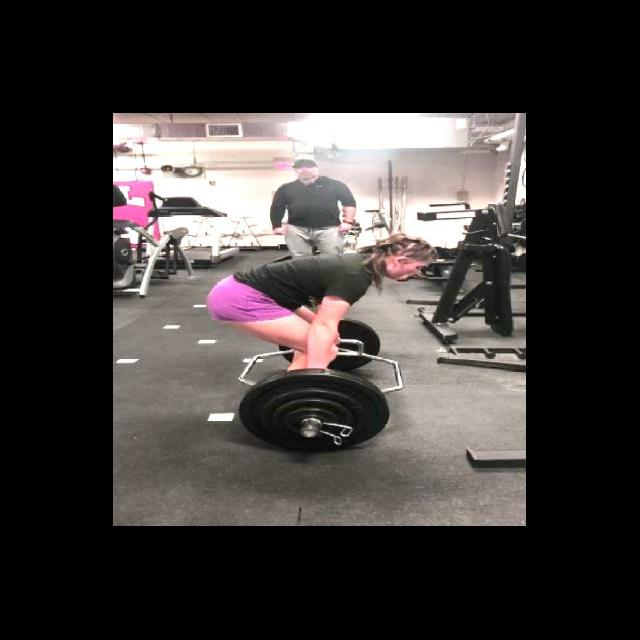barbell: (216, 362, 407, 456)
